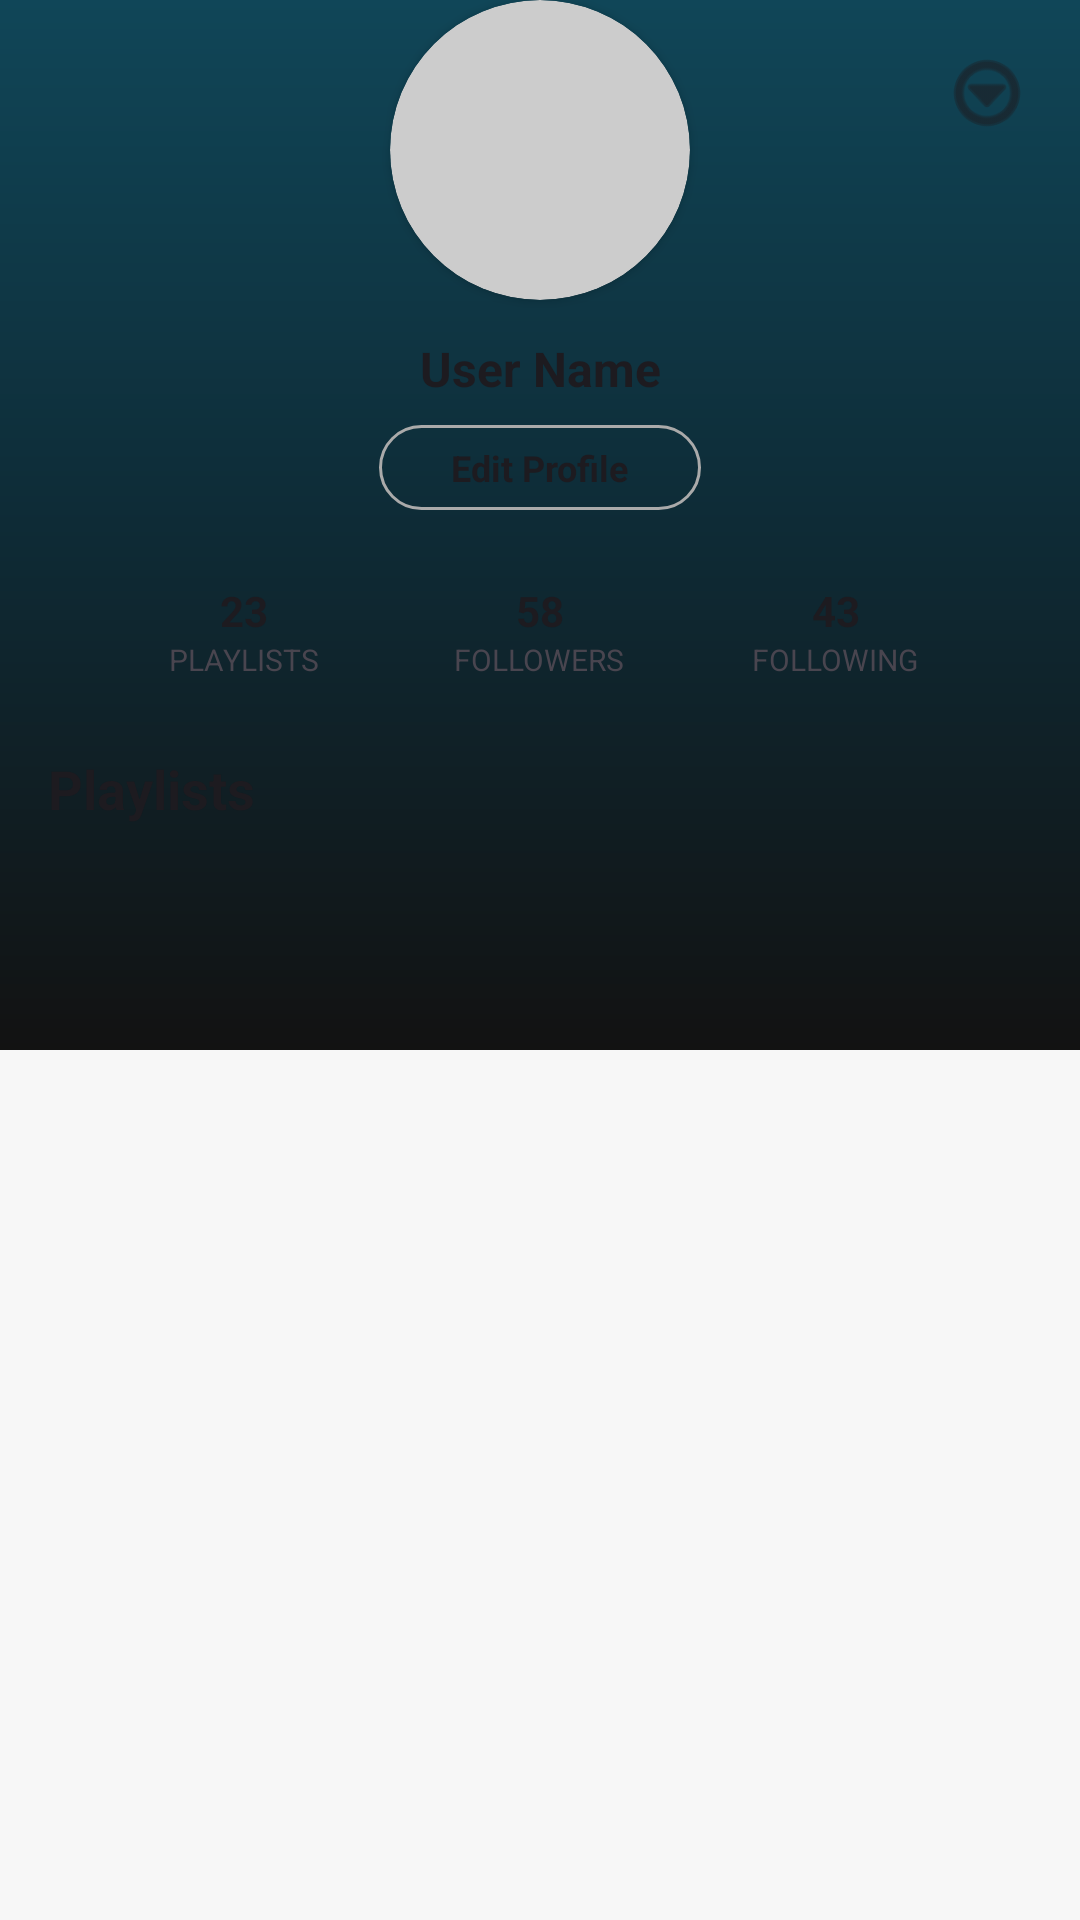

Icons on this 1080×1920 Android screen, each with its box as rect(x1, y1, x2, y2):
more: rect(955, 62, 1019, 125)
